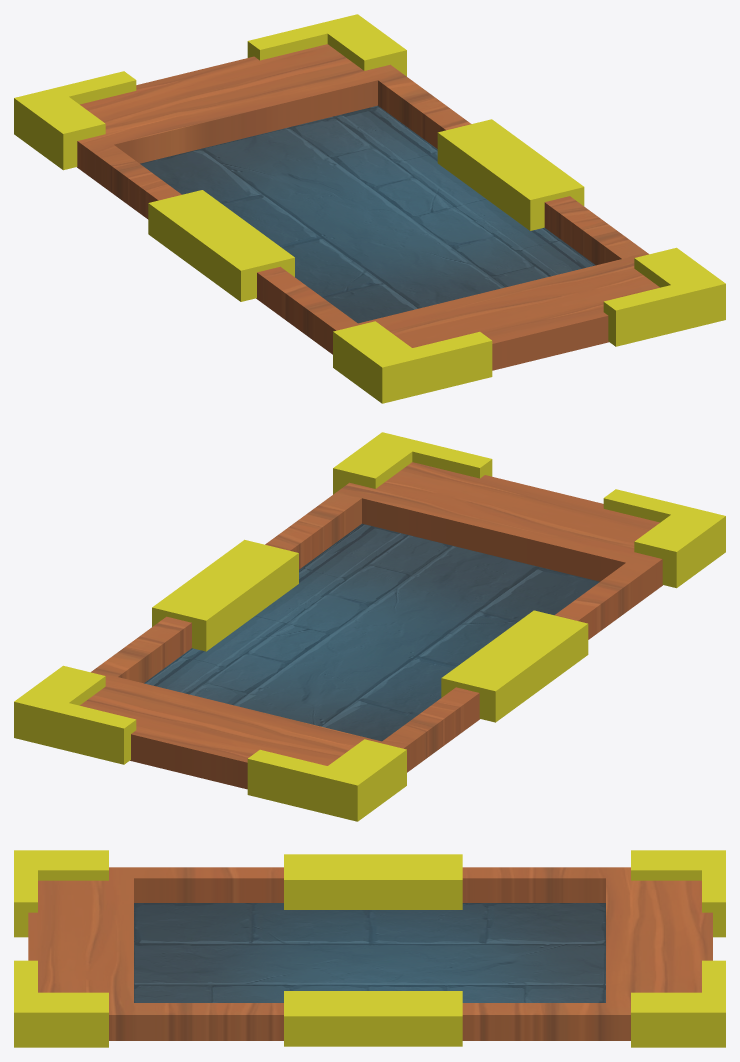
The model's file is tabuleiro.fbx.
The picture shows the model from 3 angles, top to bottom: view 1: azimuth 30°, elevation 25°; view 2: azimuth 150°, elevation 25°; view 3: azimuth 270°, elevation 25°; orthographic projection. The views are drawn at different scales.
Parts seen in each view (by area): view 1: Tabuleiro; view 2: Tabuleiro; view 3: Tabuleiro.
Boxes of the visible parts, box(x1,y1,x2,y2) form: Tabuleiro: box(14, 14, 725, 403); Tabuleiro: box(14, 432, 725, 821); Tabuleiro: box(14, 850, 725, 1047).
Size of the model in its own units: 221 by 22.78 by 408.
